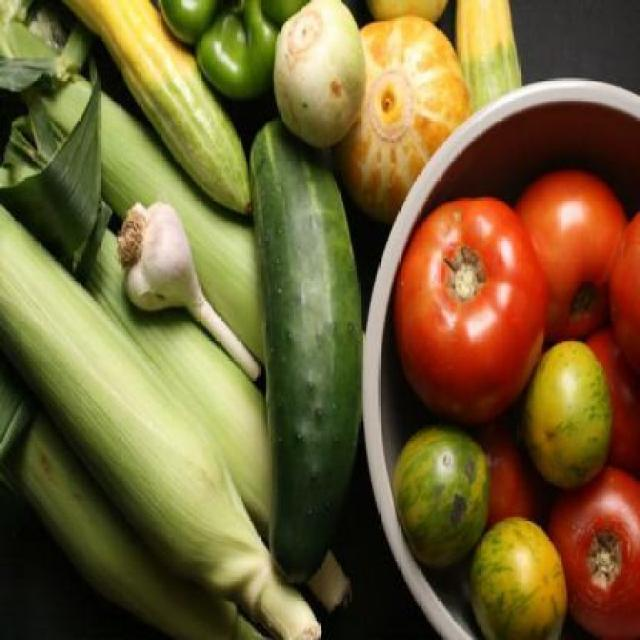Cucumber: (251, 84, 364, 592), (52, 0, 258, 215), (459, 0, 523, 115)
